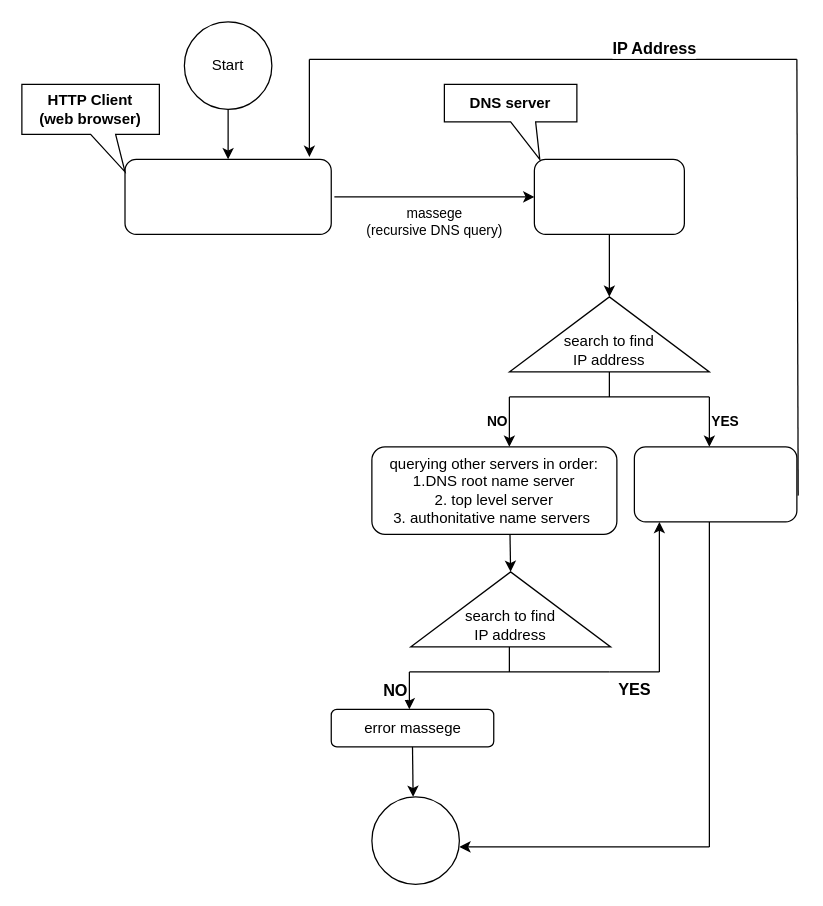
Image size: 823x906. Some labels were removed from this diagram. Each missing label, with the centre of its shape:
End: [415,840]
Enter web Address(URL): [227,196]
IP Address list: [608,196]
webpage will be loaded and return the IP address to the client: [715,484]
